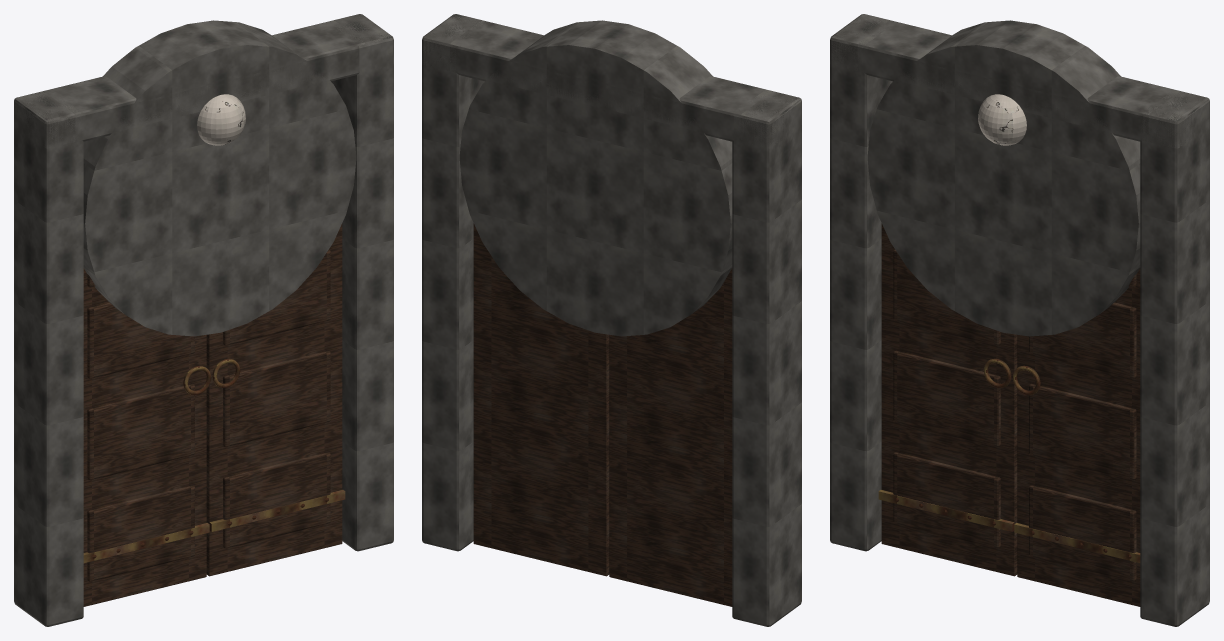
File: A07_GiantOrnateDoor.glb
3 renders of one model, left to right at view 1: azimuth 30°, elevation 25°; view 2: azimuth 150°, elevation 25°; view 3: azimuth 330°, elevation 25°, orthographic.
Parts seen in each view (by area): view 1: A07_GiantOrnateDoor; view 2: A07_GiantOrnateDoor; view 3: A07_GiantOrnateDoor.
Part boxes in pixels (box(x1,y1,x2,y2)): A07_GiantOrnateDoor: box(14, 14, 393, 626); A07_GiantOrnateDoor: box(422, 14, 801, 626); A07_GiantOrnateDoor: box(830, 14, 1209, 626).
Size of the model in its own units: 3.4 by 5 by 0.7547.
Materials: 4 (4 with a texture image).
